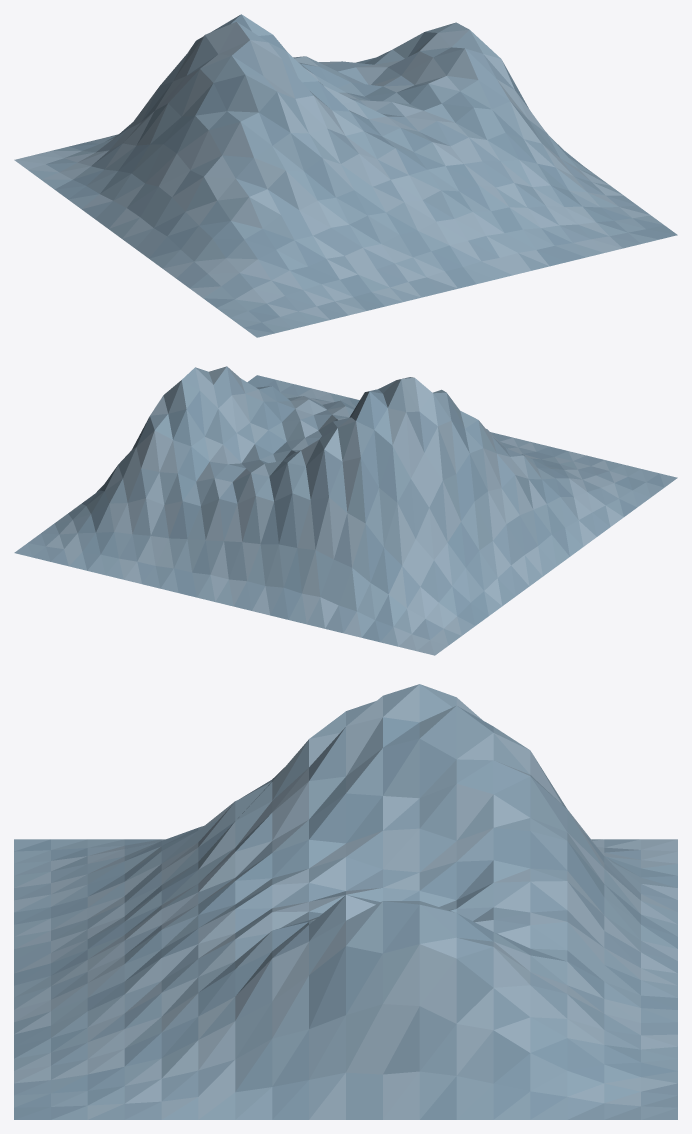
File: mountainB.glb
3 views of the same model, one above another, from view 1: azimuth 30°, elevation 25°; view 2: azimuth 150°, elevation 25°; view 3: azimuth 270°, elevation 25° (orthographic). The views are drawn at different scales.
Parts seen in each view (by area): view 1: MountainMesh.002; view 2: MountainMesh.002; view 3: MountainMesh.002.
Boxes of the visible parts, bbox=[...] form: MountainMesh.002: bbox=[14, 14, 677, 337]; MountainMesh.002: bbox=[14, 366, 677, 655]; MountainMesh.002: bbox=[14, 684, 677, 1119].
Size of the model in its own units: 2 by 0.8 by 2.
